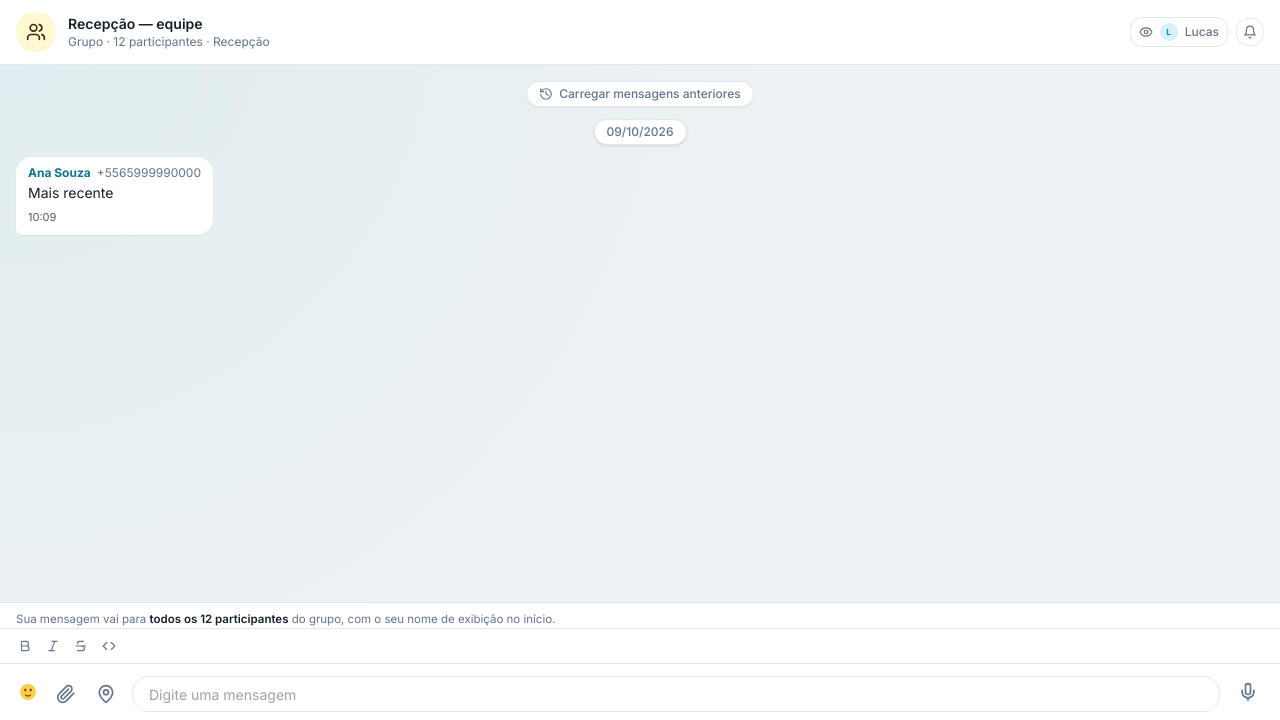
Scenario: Grupos no Atendimento › 'Carregar mensagens anteriores' mostra primeiro o que já está guardado e, acabando, pede ao WhatsApp
The width and height of the screenshot is (1280, 720).
What coordinates should you click on to do the following:
click the button "Carregar mensagens anteriores"
I would click on:
 (640, 94)
Its box is x1=526 y1=81 x2=754 y2=107.
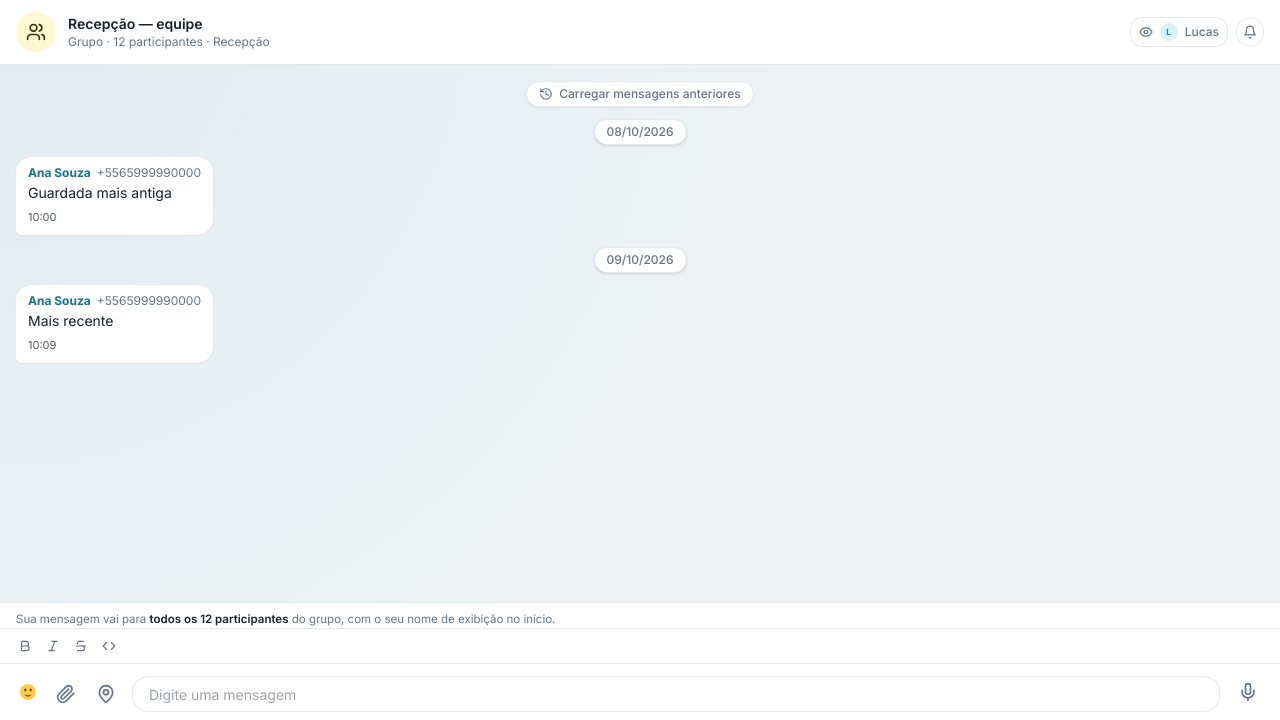
Check: the text "Guardada mais antiga" is shown, box x1=28 y1=184 x2=172 y2=201
What coordinates should you click on to do the following:
click the button "Carregar mensagens anteriores"
I would click on:
 (640, 94)
Its box is x1=526 y1=81 x2=754 y2=107.
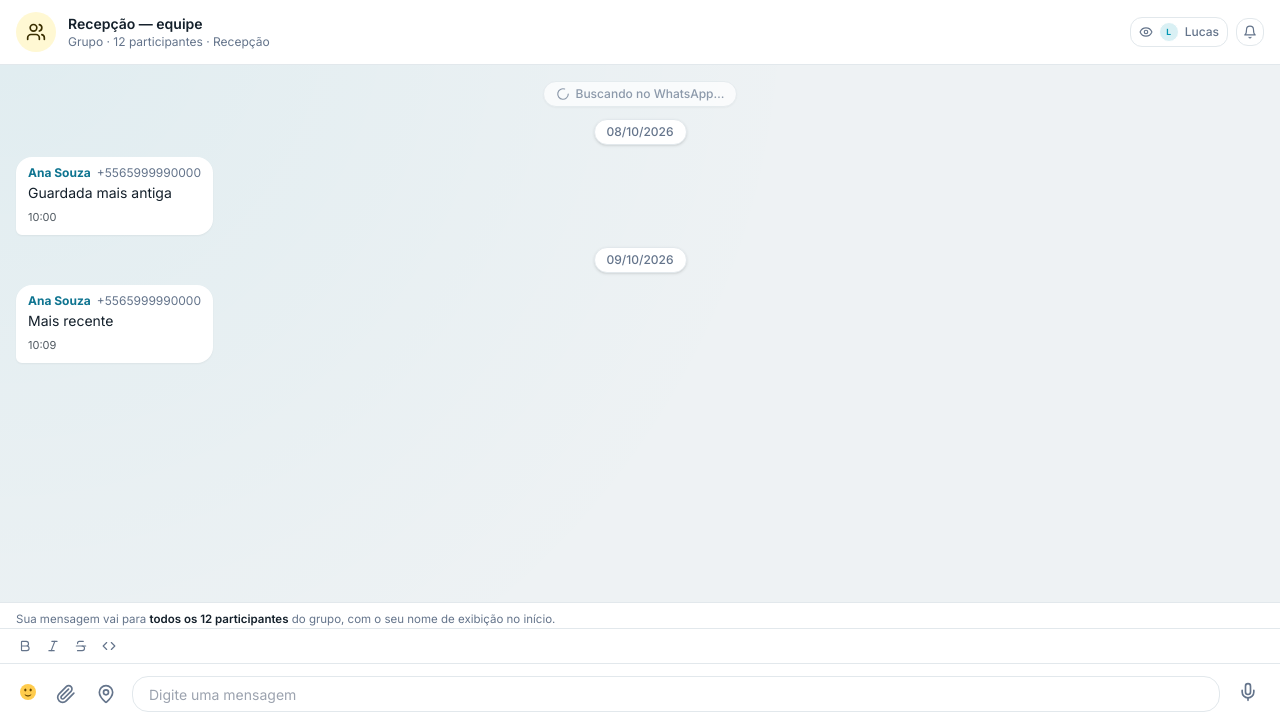
Check: the button "Buscando no WhatsApp…" is disabled, box x1=542 y1=81 x2=738 y2=107
